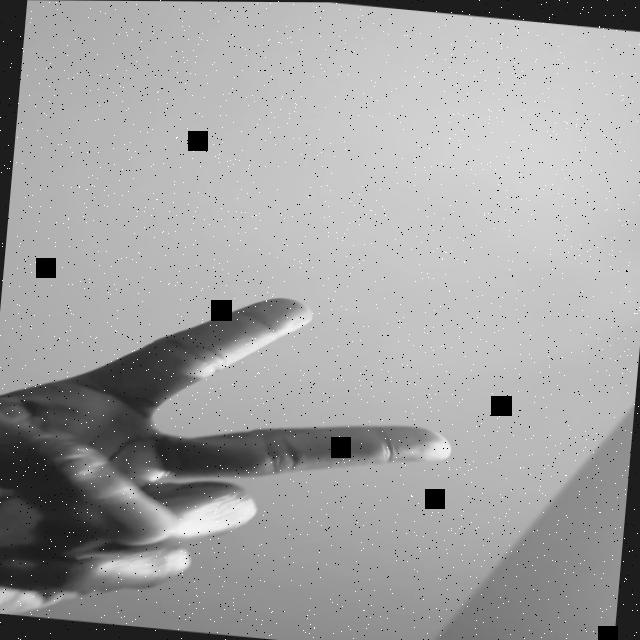Scissors: (0, 269, 462, 640)
